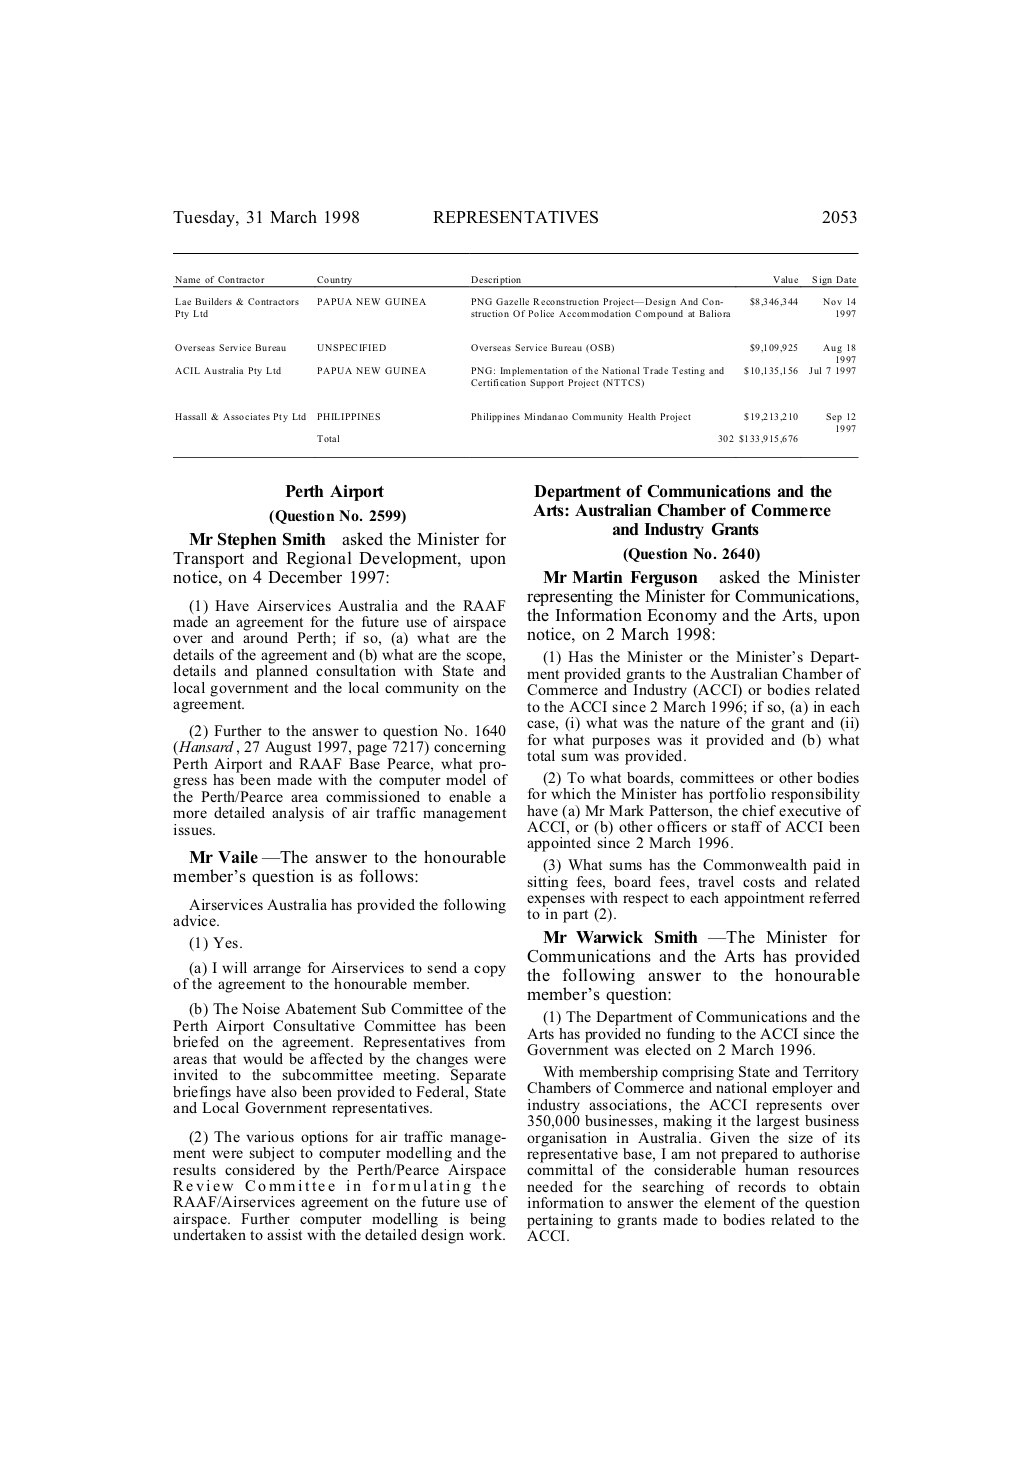Table: (173, 253, 858, 457)
